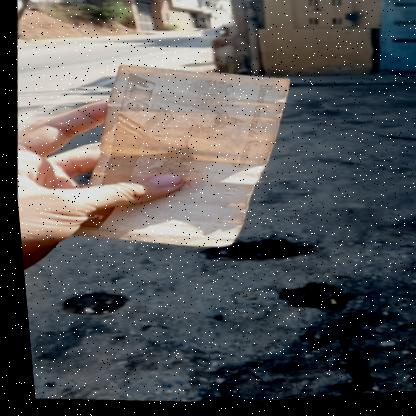five-back-vef: (53, 52, 300, 261)
